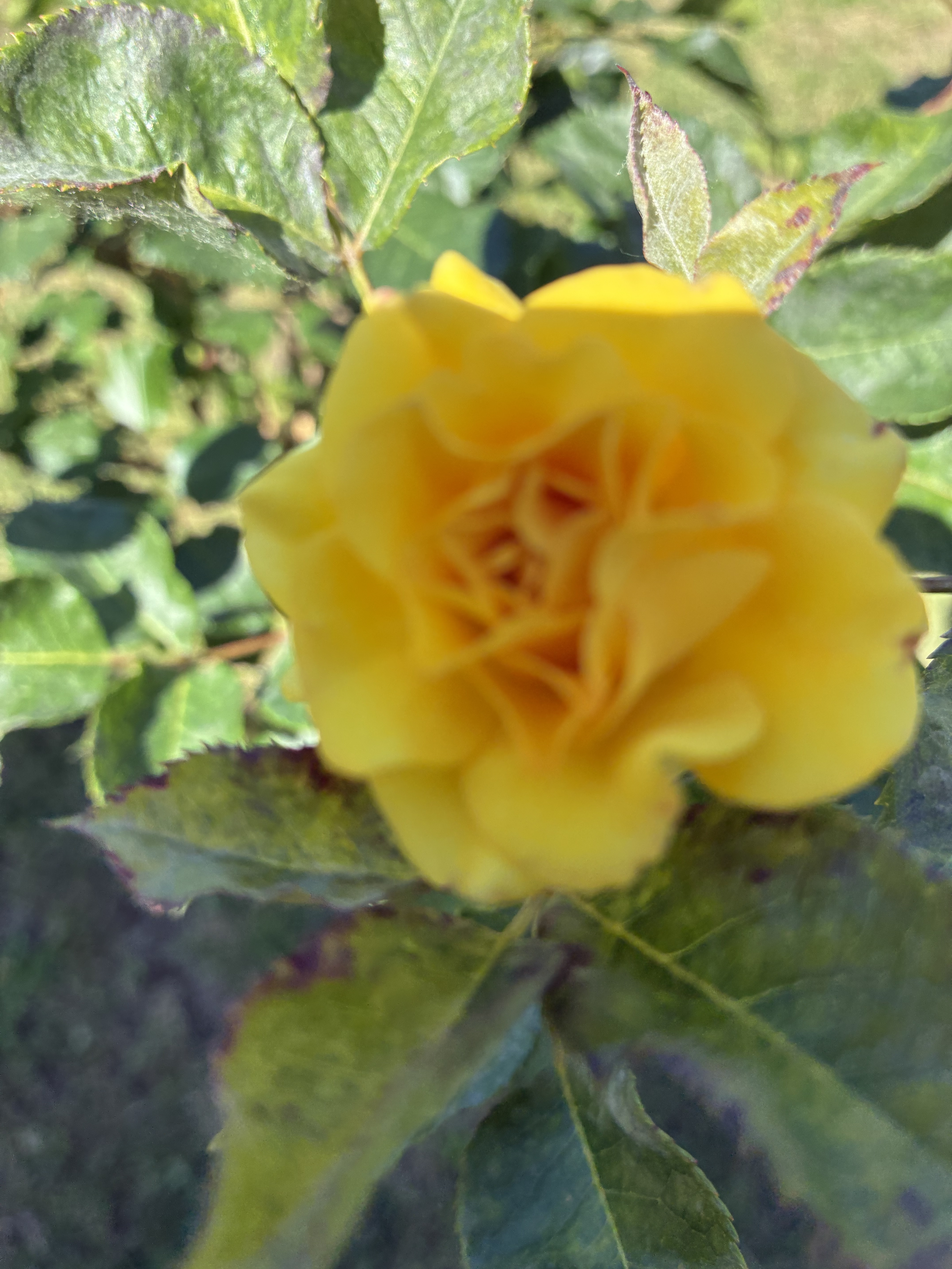rose: (231, 253, 916, 915)
